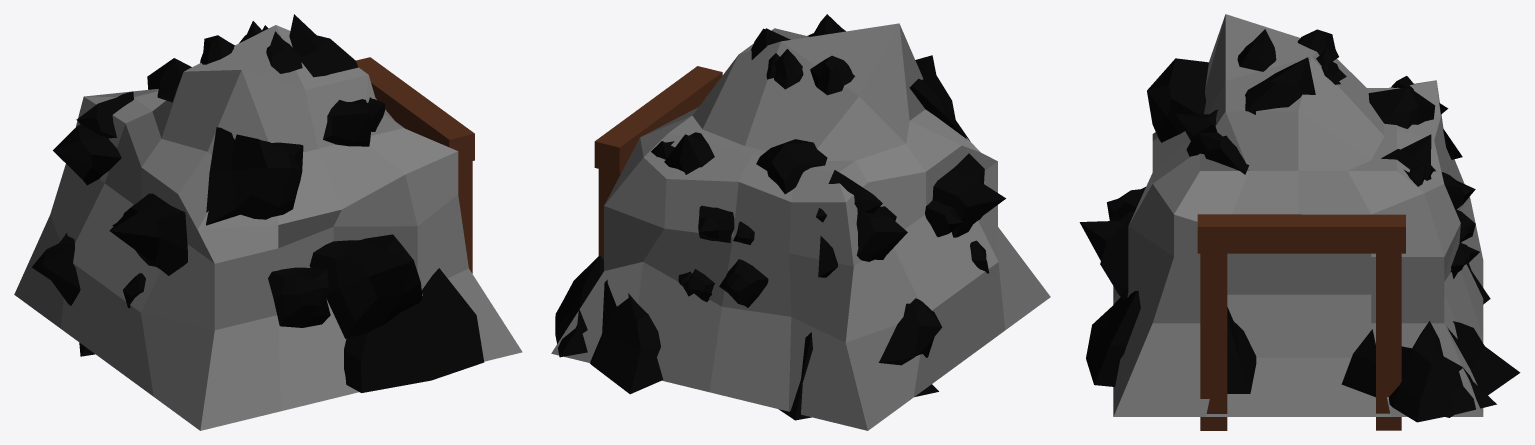
Rendered from CoalMine.fbx.
The picture shows the model from 3 angles, left to right: view 1: azimuth 30°, elevation 25°; view 2: azimuth 150°, elevation 25°; view 3: azimuth 270°, elevation 25°; orthographic projection.
Visible parts, largest first — view 1: Cube, Cube.006, Cube.022; view 2: Cube, Cube.006, Cube.022; view 3: Cube, Cube.006, Cube.022.
Boxes of the visible parts, x1=… form: Cube: x1=14, y1=25, x2=522, y2=430; Cube.006: x1=31, y1=14, x2=484, y2=392; Cube.022: x1=356, y1=57, x2=474, y2=273; Cube: x1=551, y1=23, x2=1050, y2=430; Cube.006: x1=555, y1=14, x2=1005, y2=420; Cube.022: x1=594, y1=66, x2=722, y2=259; Cube: x1=1113, y1=14, x2=1483, y2=416; Cube.006: x1=1079, y1=29, x2=1520, y2=422; Cube.022: x1=1197, y1=214, x2=1405, y2=430.
Size of the model in its own units: 213 by 181 by 218.
